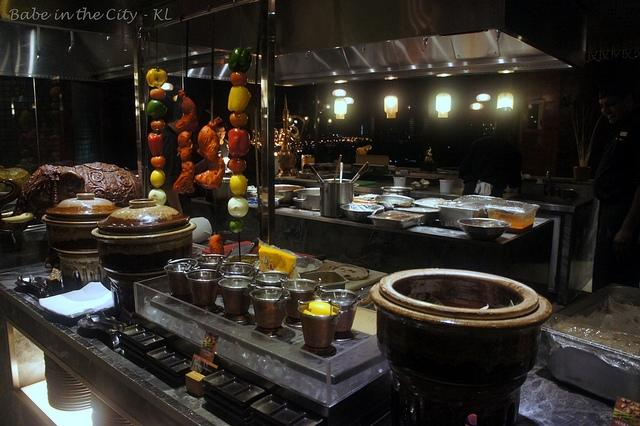bell pepper: (228, 128, 250, 159), (228, 47, 254, 73), (228, 86, 252, 114), (146, 66, 168, 88), (146, 100, 168, 120), (148, 129, 163, 156)
lemon: (228, 172, 248, 198), (150, 168, 166, 189), (312, 307, 336, 316), (302, 310, 314, 316)
onion: (228, 196, 250, 218), (148, 188, 166, 205)
